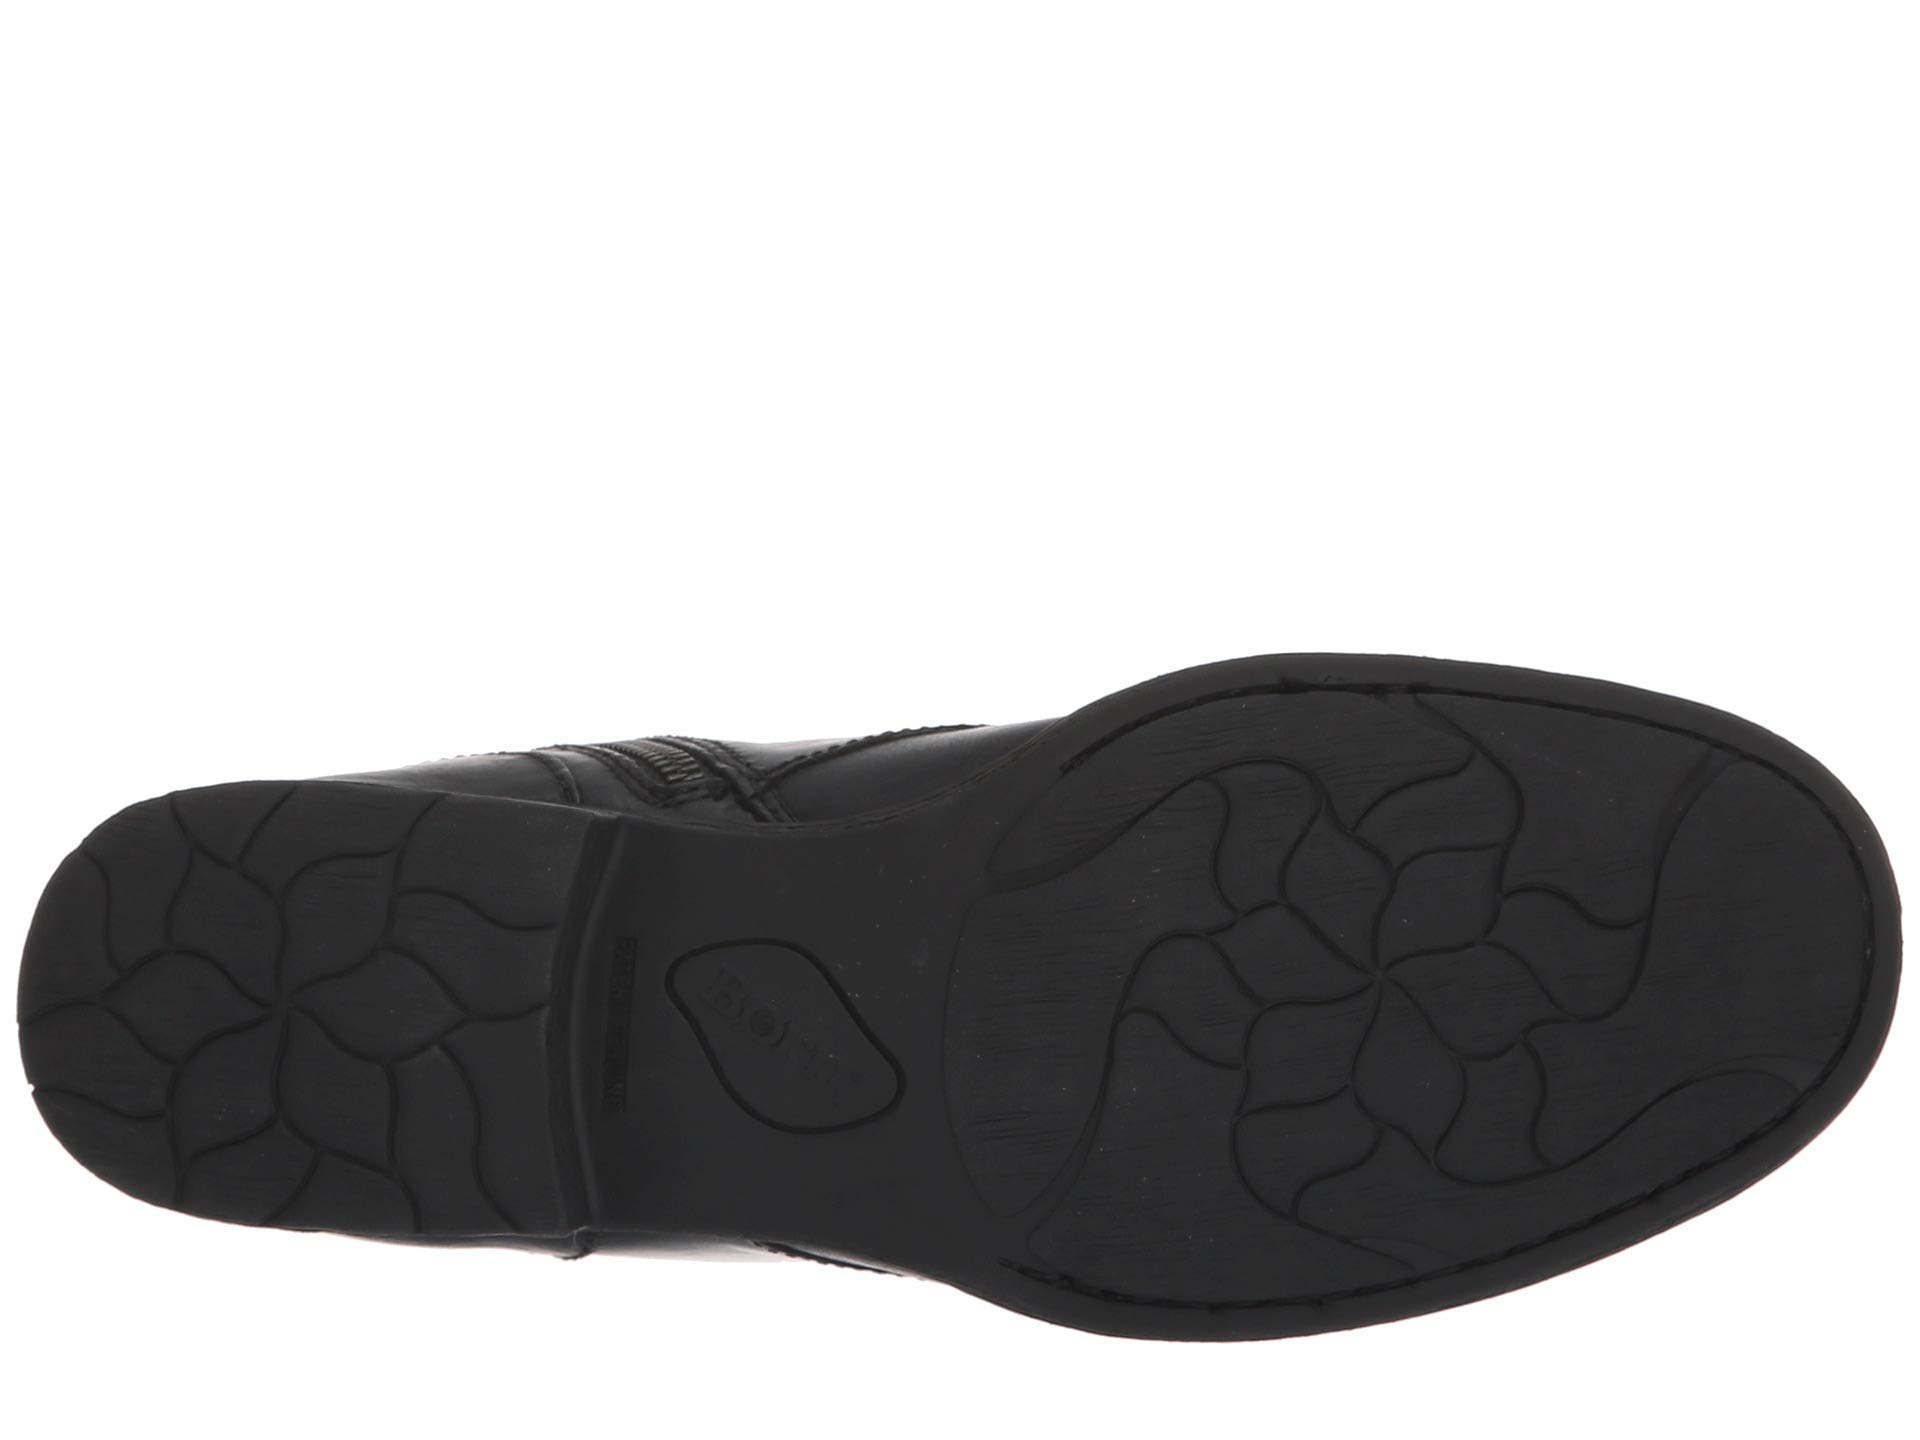quad: (1185, 774, 1601, 1206), (89, 812, 500, 1192), (639, 892, 930, 1192)
star: (1185, 774, 1601, 1206), (89, 812, 500, 1192)
text: (639, 892, 930, 1192)
